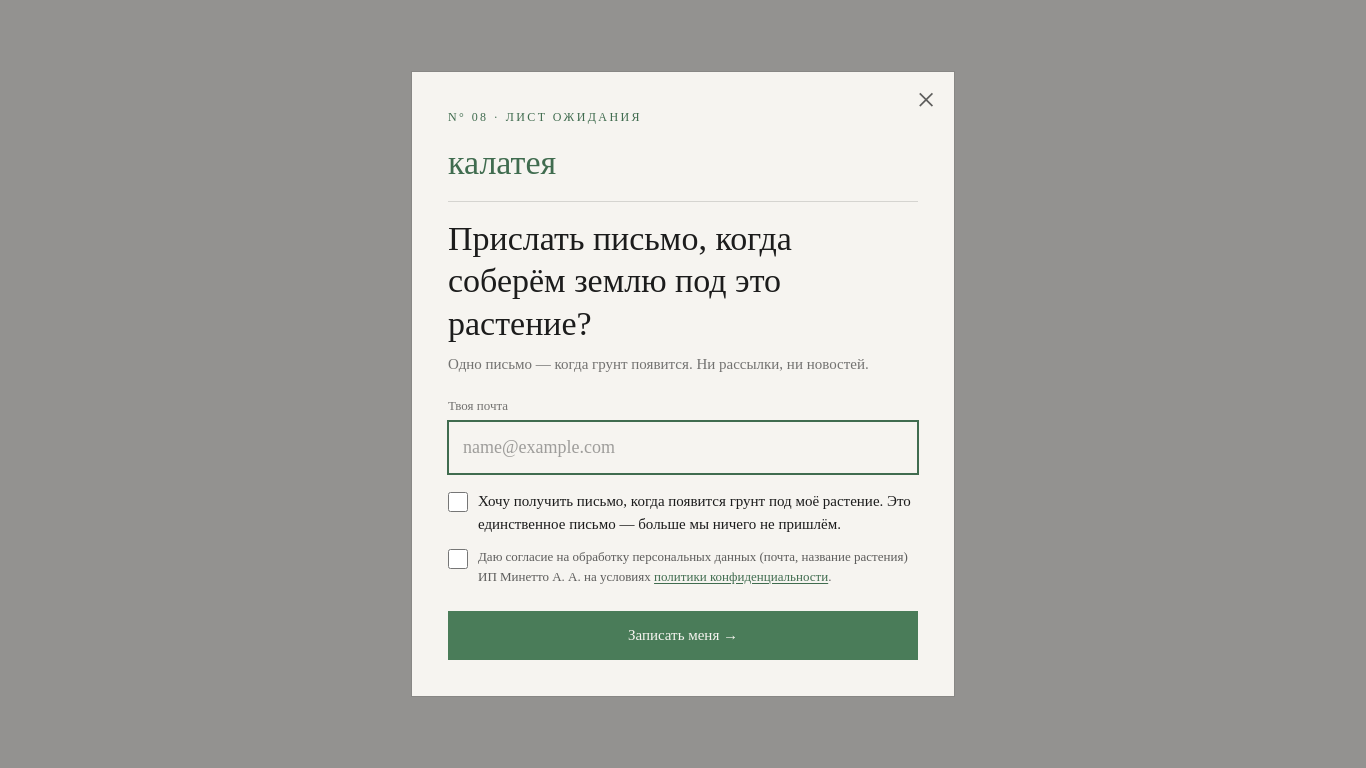
WaitlistModal — пять состояний (task 3.3) › кривой email: ошибка почты, отправки нет
Type "не-почта" into the field labelled "Твоя почта".
click(683, 448); type("не-почта")  # box [448,421,918,474]
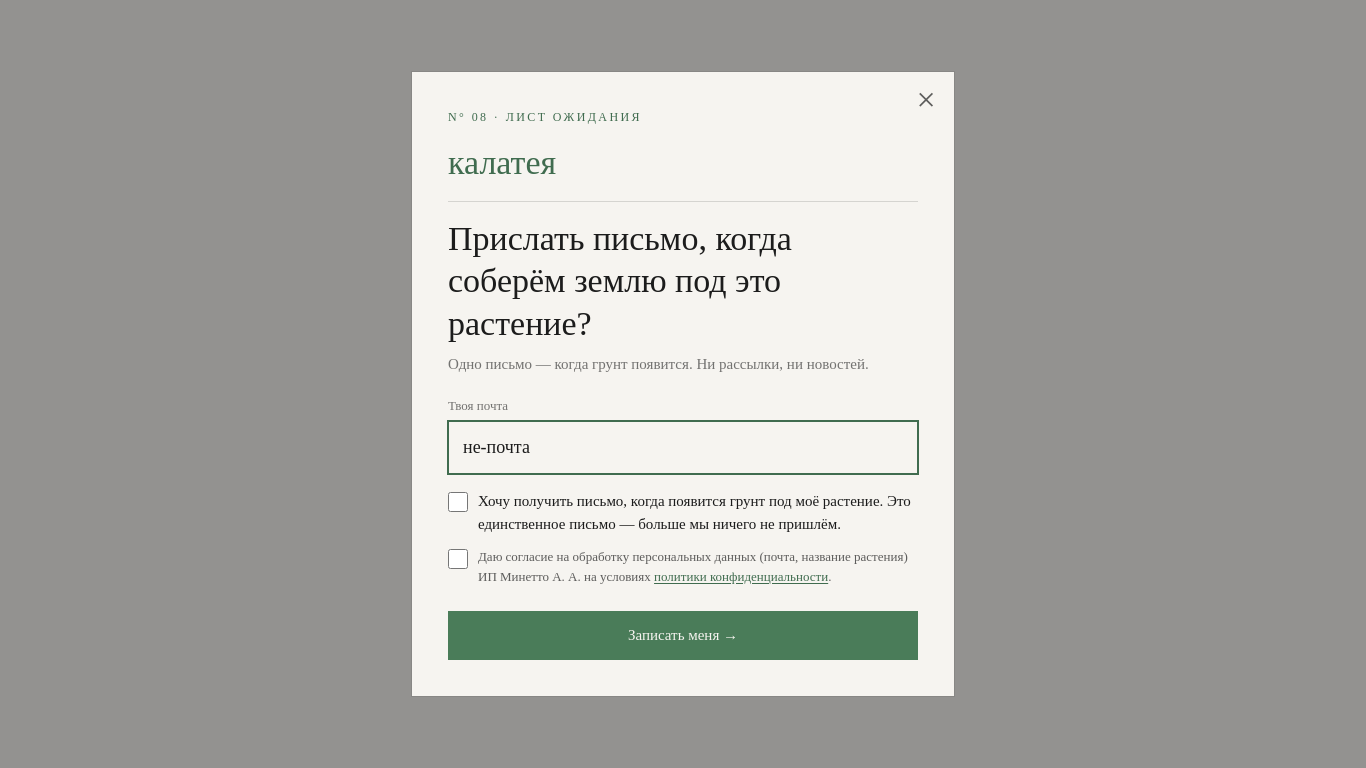
Click the 1st checkbox.
click(458, 502)  # box [448,492,468,512]
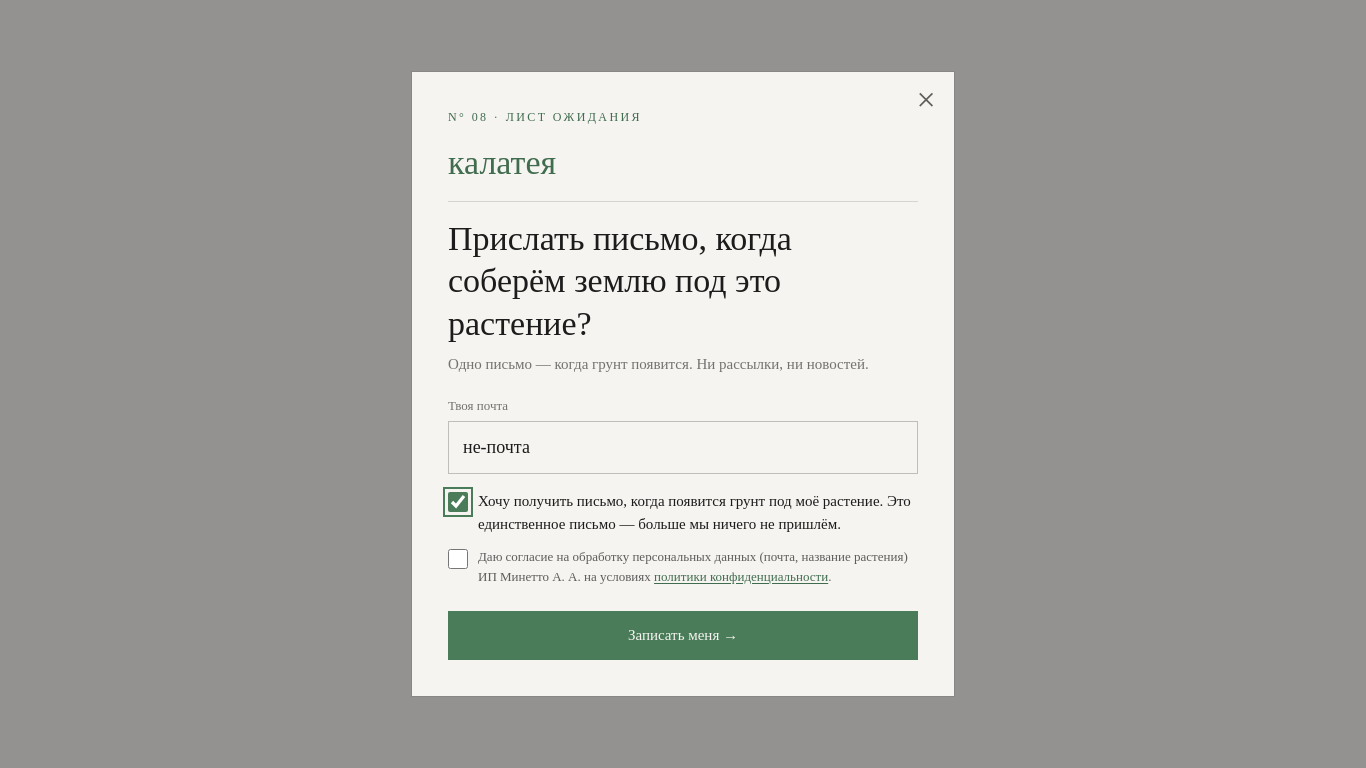
Click the 2nd checkbox.
click(458, 559)  # box [448,549,468,569]
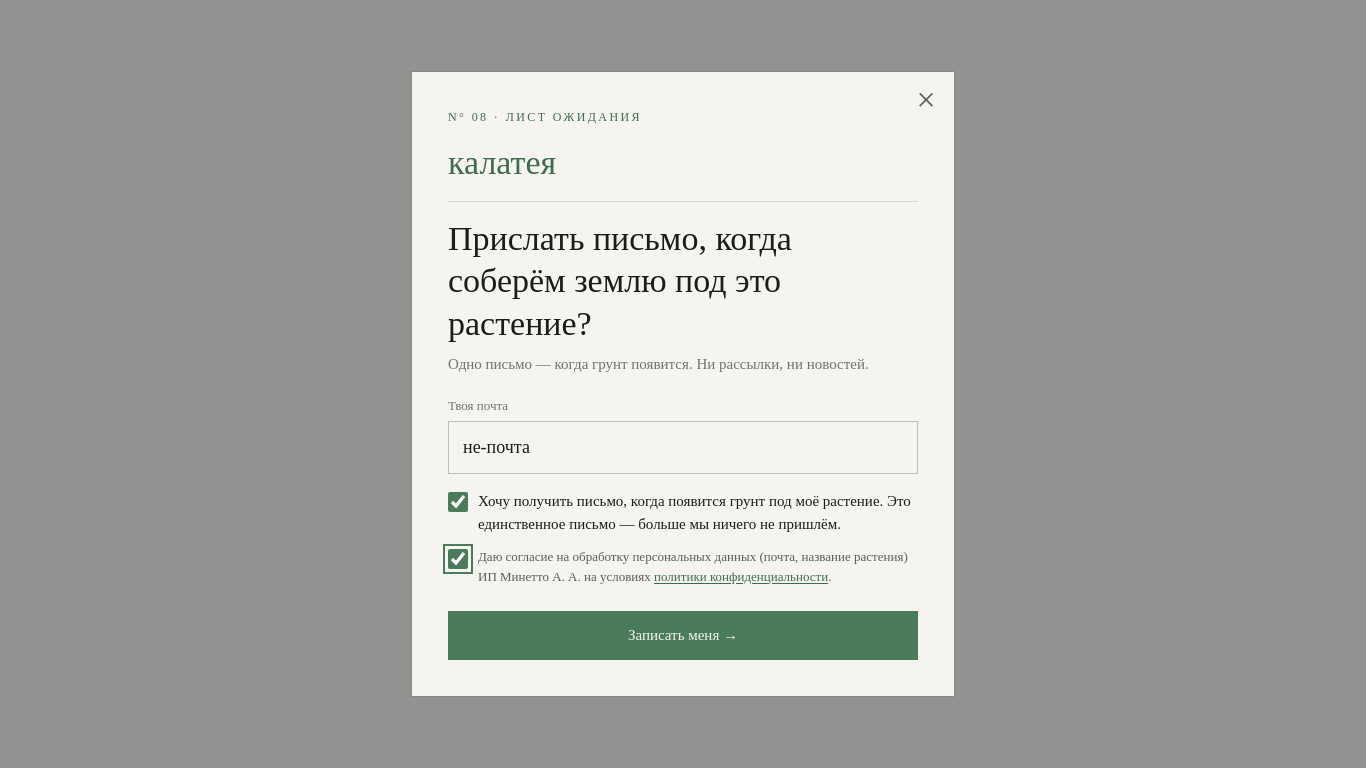
Click the button "Записать меня →".
click(683, 636)  # box [448,611,918,660]
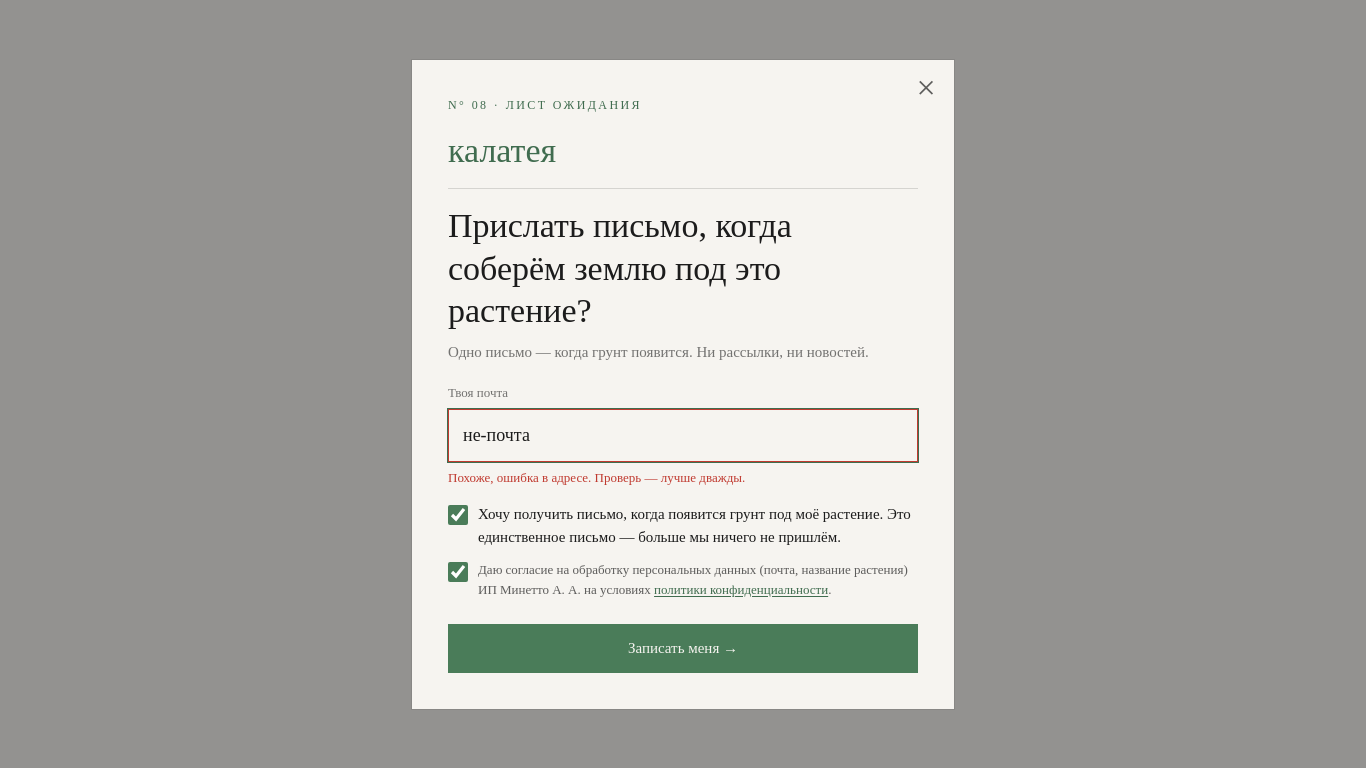
Expected: the text "Похоже, ошибка в адресе. Проверь — лучше дважды." is shown, [448,470,745,484]
